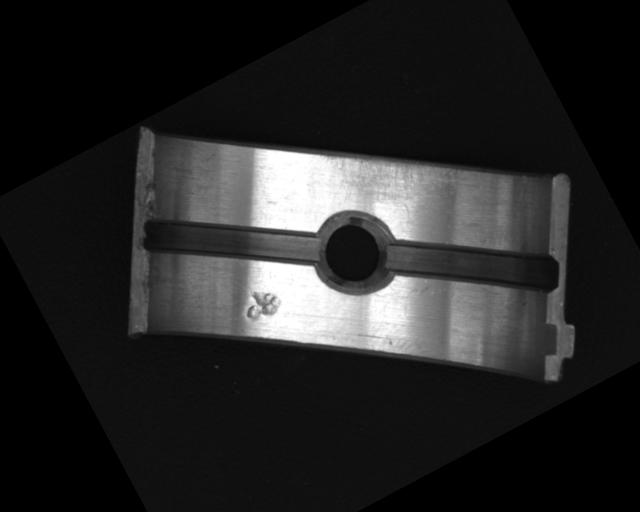bruise: (235, 278, 287, 328)
gap: (135, 154, 326, 329), (378, 178, 567, 350)
hole: (297, 198, 408, 310)
scratch: (317, 95, 474, 241)
